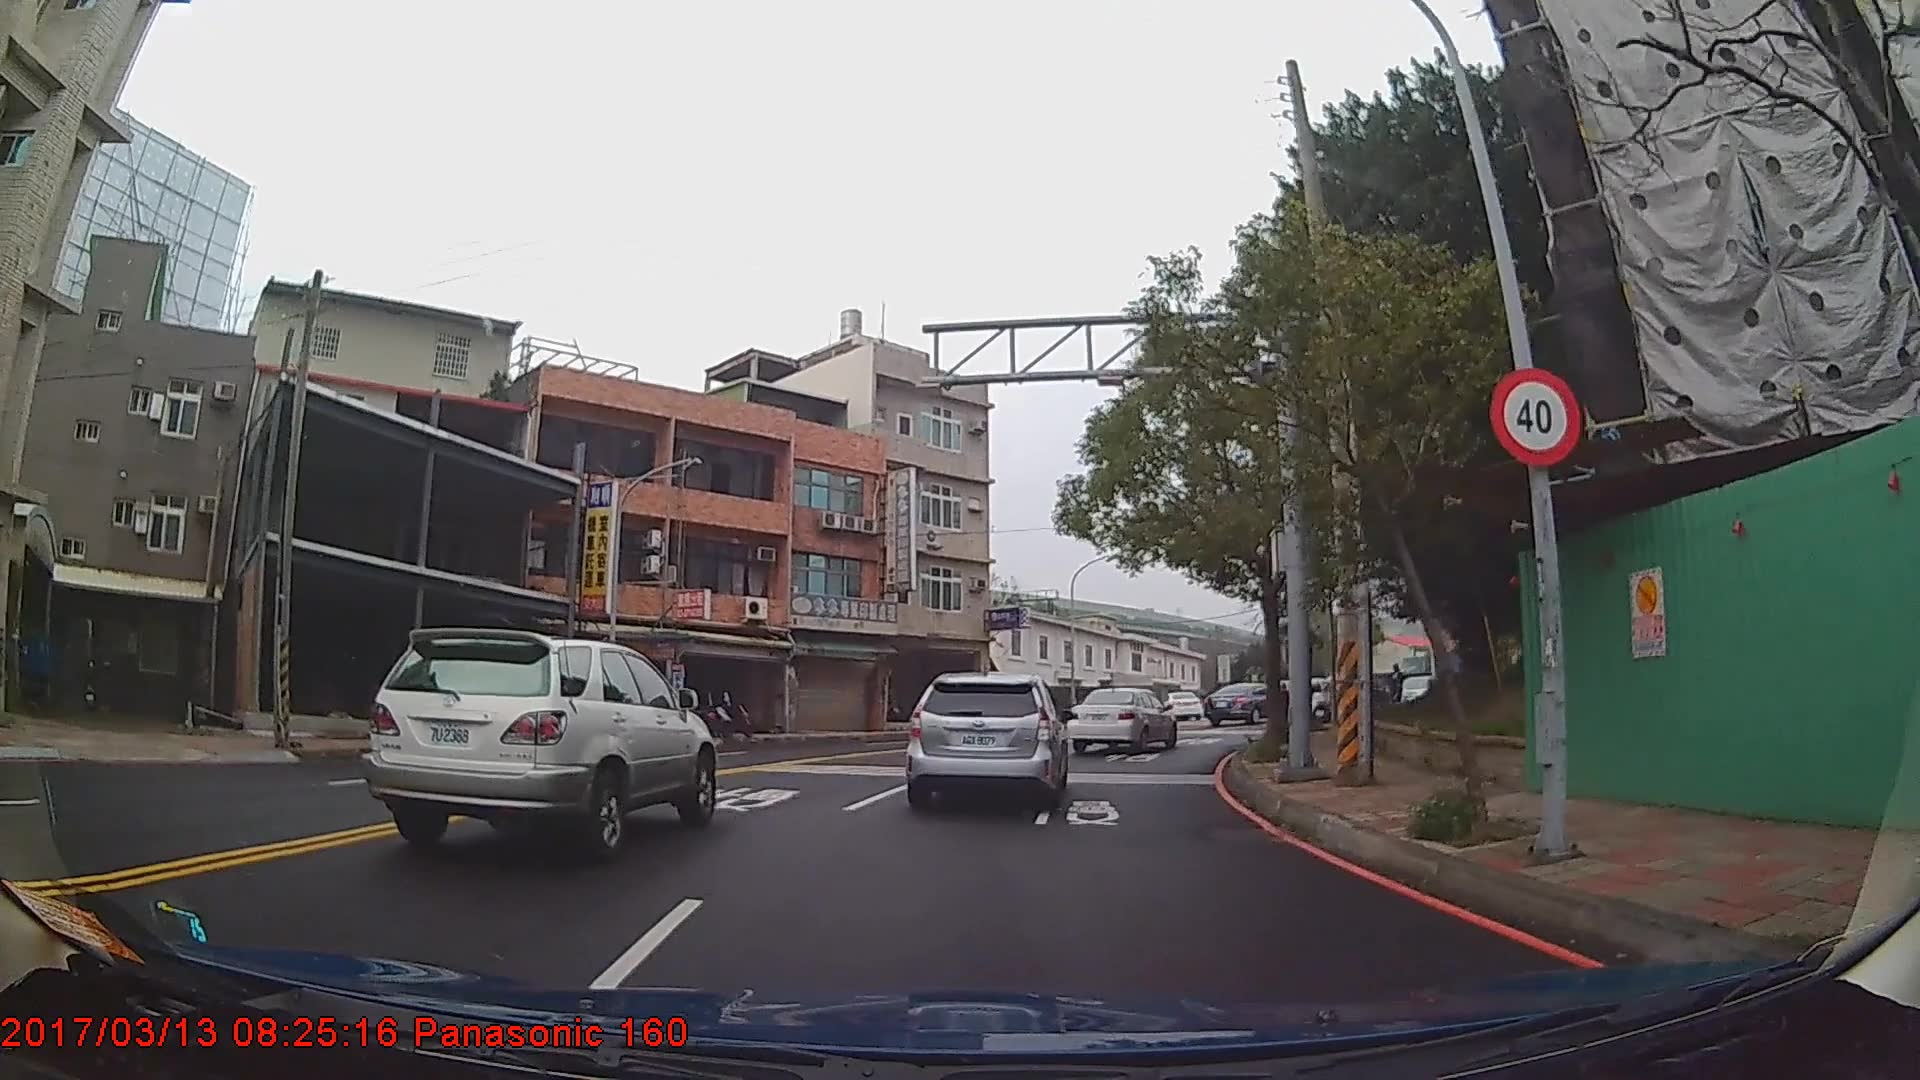vehicle: (359, 625, 716, 857), (905, 669, 1069, 810), (1065, 684, 1179, 752), (1200, 680, 1282, 727)
